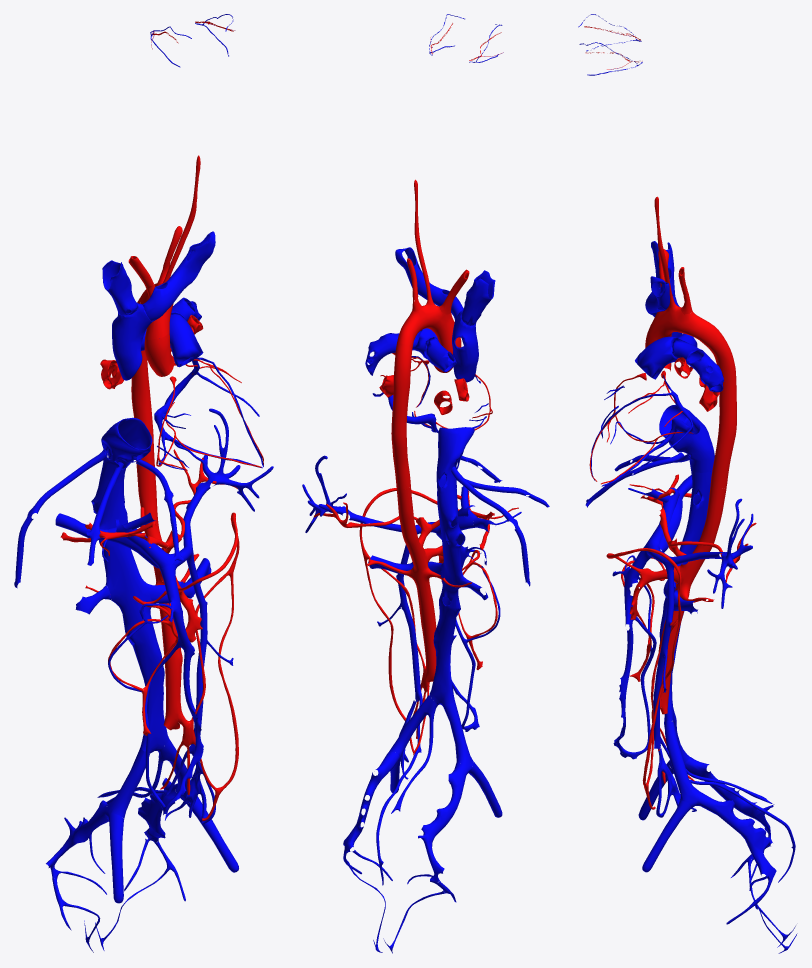
File: vh_m_blood_vasculature.glb
The picture shows the model from 3 angles, left to right: view 1: azimuth 30°, elevation 25°; view 2: azimuth 150°, elevation 25°; view 3: azimuth 270°, elevation 25°; orthographic projection. The views are drawn at different scales.
Parts seen in each view (by area): view 1: VH_M_inferior_vena_cava_b, VH_M_descending_aorta_b, VH_M_inferior_vena_cava_a, VH_M_superior_mesenteric_vein, VH_M_splenic_vein, VH_M_brachiocephalic_vein_L, VH_M_superior_vena_cava, VH_M_marginal_artery_of_Drummond, VH_M_descending_aorta_a, VH_M_inferior_mesenteric_vein, VH_M_brachiocephalic_vein_R, VH_M_pulmonary_trunk (+18 smaller); view 2: VH_M_inferior_vena_cava_b, VH_M_descending_aorta_b, VH_M_descending_aorta_a, VH_M_inferior_vena_cava_a, VH_M_internal_iliac_vein_R, VH_M_aortic_arch, VH_M_superior_vena_cava, VH_M_splenic_vein, VH_M_brachiocephalic_vein_R, VH_M_brachiocephalic_vein_L, VH_M_internal_iliac_vein_L, VH_M_marginal_artery_of_Drummond (+8 smaller); view 3: VH_M_descending_aorta_a, VH_M_descending_aorta_b, VH_M_inferior_vena_cava_b, VH_M_inferior_vena_cava_a, VH_M_internal_iliac_vein_L, VH_M_aortic_arch, VH_M_splenic_vein, VH_M_superior_mesenteric_vein, VH_M_pulmonary_artery_L, VH_M_inferior_mesenteric_vein, VH_M_marginal_artery_of_Drummond, VH_M_common_iliac_vein_L (+12 smaller).
Part boxes in pixels (x1=…): VH_M_inferior_vena_cava_b: x1=91, y1=473, x2=169, y2=753; VH_M_descending_aorta_b: x1=136, y1=459, x2=182, y2=730; VH_M_inferior_vena_cava_a: x1=101, y1=417, x2=152, y2=482; VH_M_superior_mesenteric_vein: x1=158, y1=564, x2=203, y2=812; VH_M_splenic_vein: x1=170, y1=408, x2=273, y2=567; VH_M_brachiocephalic_vein_L: x1=142, y1=231, x2=215, y2=321; VH_M_superior_vena_cava: x1=112, y1=303, x2=152, y2=380; VH_M_marginal_artery_of_Drummond: x1=179, y1=512, x2=239, y2=820; VH_M_descending_aorta_a: x1=131, y1=298, x2=154, y2=461; VH_M_inferior_mesenteric_vein: x1=186, y1=548, x2=207, y2=755; VH_M_brachiocephalic_vein_R: x1=102, y1=260, x2=137, y2=315; VH_M_pulmonary_trunk: x1=169, y1=313, x2=203, y2=367; VH_M_inferior_vena_cava_b: x1=429, y1=489, x2=465, y2=707; VH_M_descending_aorta_b: x1=396, y1=486, x2=436, y2=682; VH_M_descending_aorta_a: x1=391, y1=343, x2=412, y2=489; VH_M_inferior_vena_cava_a: x1=436, y1=427, x2=474, y2=493; VH_M_internal_iliac_vein_R: x1=418, y1=762, x2=468, y2=883; VH_M_aortic_arch: x1=397, y1=304, x2=459, y2=348; VH_M_superior_vena_cava: x1=452, y1=310, x2=478, y2=382; VH_M_splenic_vein: x1=302, y1=455, x2=440, y2=534; VH_M_brachiocephalic_vein_R: x1=461, y1=270, x2=495, y2=325; VH_M_brachiocephalic_vein_L: x1=395, y1=247, x2=463, y2=319; VH_M_internal_iliac_vein_L: x1=343, y1=752, x2=399, y2=852; VH_M_marginal_artery_of_Drummond: x1=359, y1=488, x2=437, y2=753; VH_M_descending_aorta_a: x1=708, y1=334, x2=736, y2=488; VH_M_descending_aorta_b: x1=657, y1=485, x2=726, y2=714; VH_M_inferior_vena_cava_b: x1=659, y1=470, x2=712, y2=722; VH_M_inferior_vena_cava_a: x1=659, y1=404, x2=714, y2=472; VH_M_internal_iliac_vein_L: x1=696, y1=791, x2=776, y2=881; VH_M_aortic_arch: x1=647, y1=306, x2=721, y2=348; VH_M_splenic_vein: x1=645, y1=498, x2=753, y2=608; VH_M_superior_mesenteric_vein: x1=613, y1=545, x2=651, y2=753; VH_M_pulmonary_artery_L: x1=670, y1=338, x2=723, y2=392; VH_M_inferior_mesenteric_vein: x1=653, y1=561, x2=674, y2=749; VH_M_marginal_artery_of_Drummond: x1=606, y1=548, x2=681, y2=809; VH_M_common_iliac_vein_L: x1=665, y1=720, x2=698, y2=807.
Size of the model in its own units: 0.2362 by 0.8718 by 0.1873.
